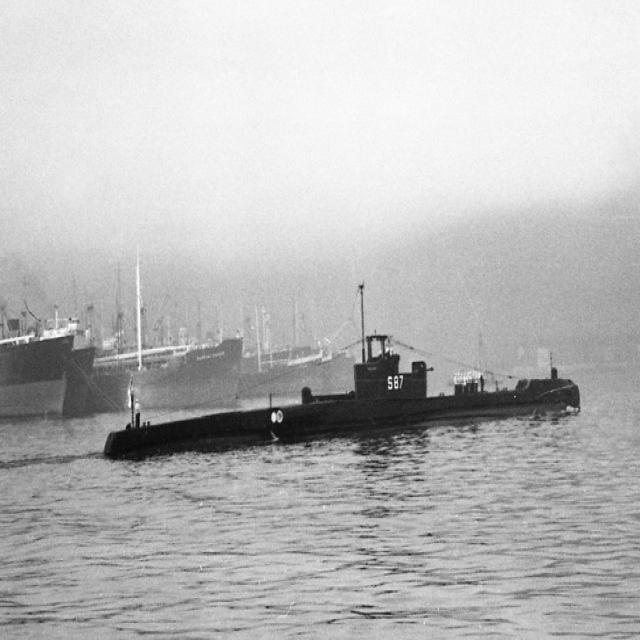submarine: (103, 280, 584, 463)
